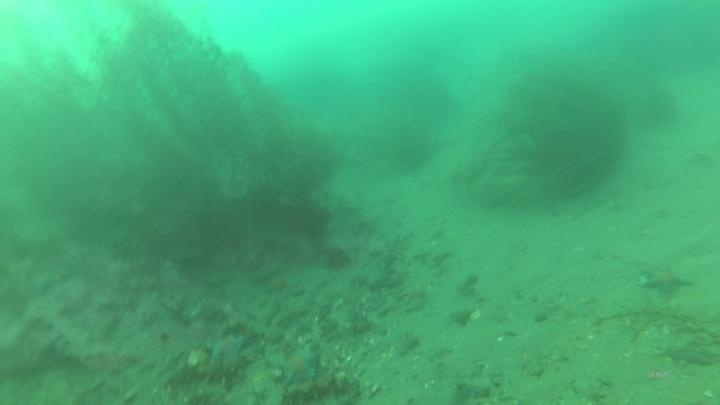echinus: (284, 196, 334, 243)
holothurian: (279, 376, 351, 404)
starfish: (639, 262, 695, 301), (276, 341, 323, 387), (204, 329, 251, 369)
